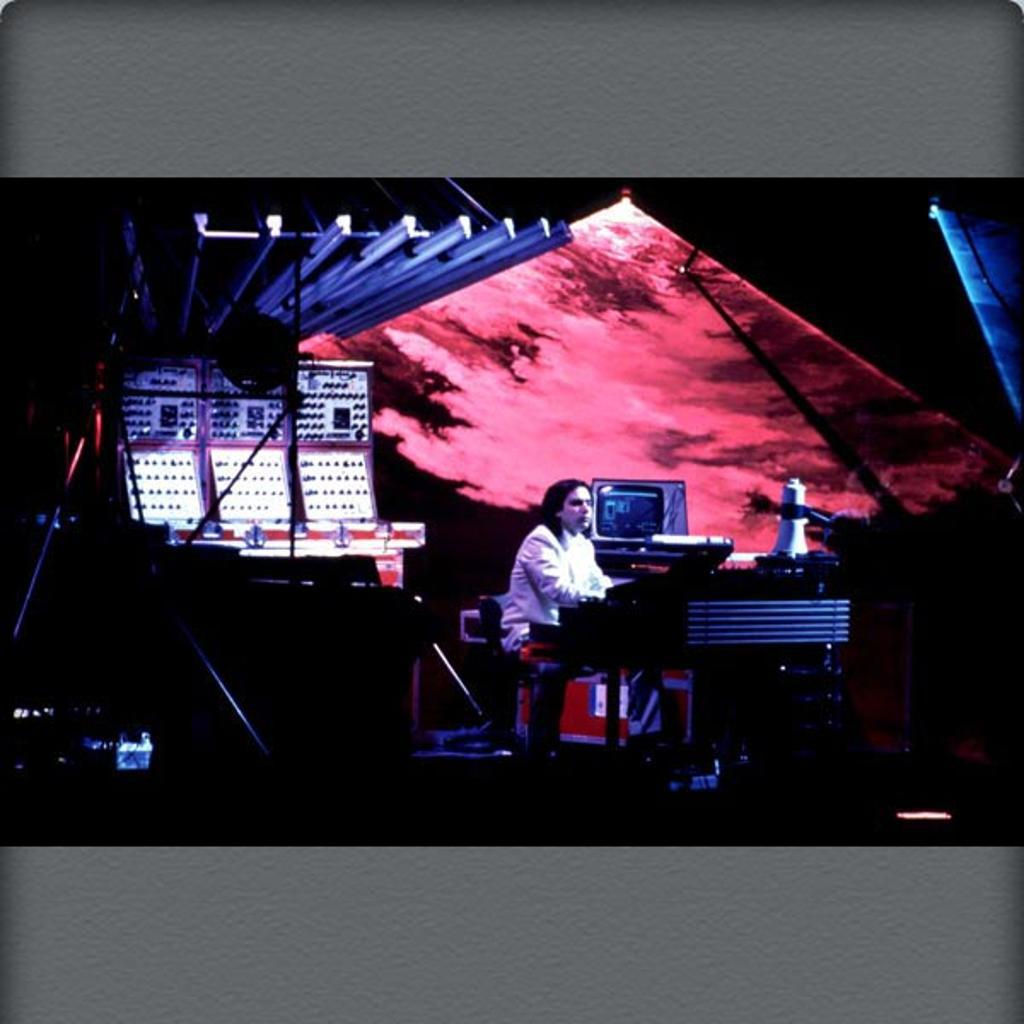face: (563, 487, 593, 529)
